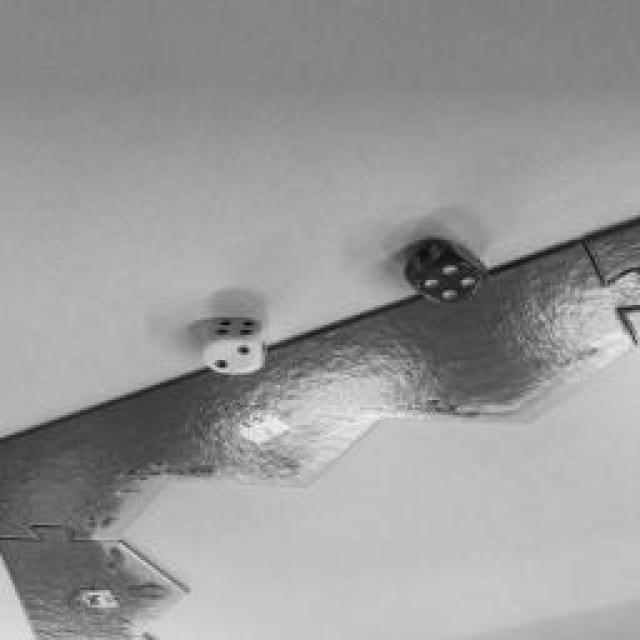dice_2: (204, 338, 261, 374)
dice_4: (414, 260, 484, 305)
